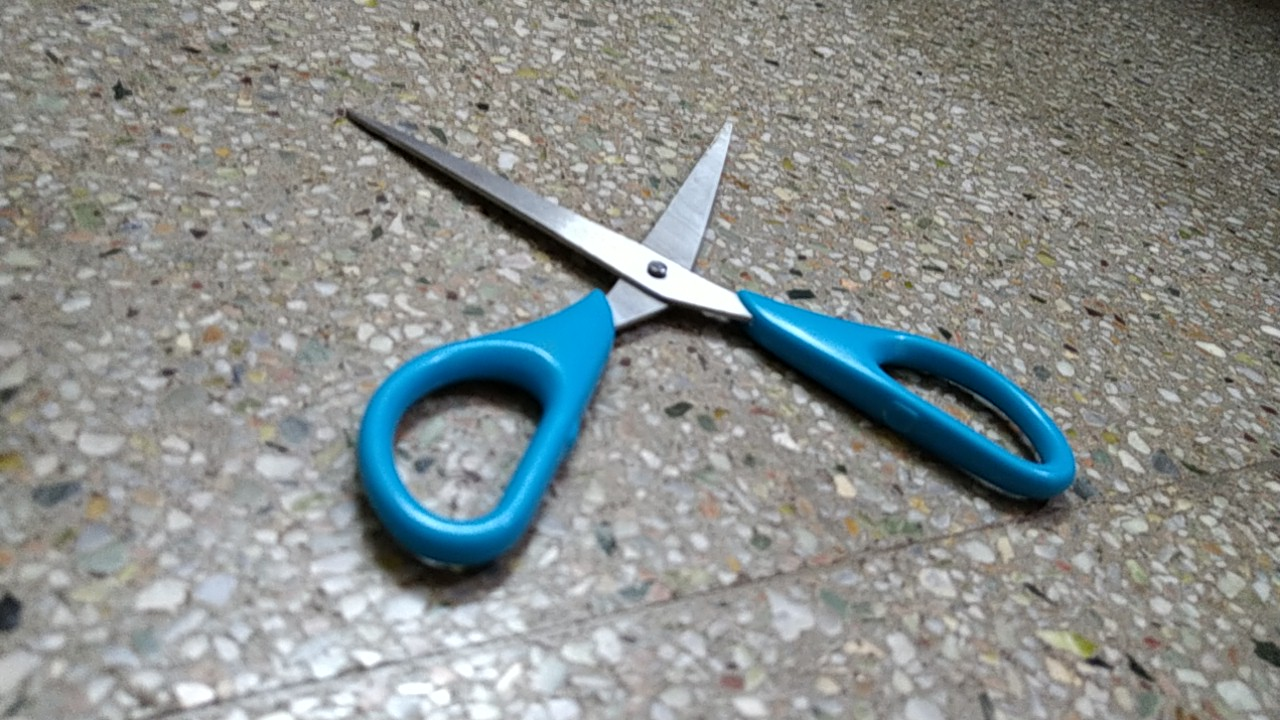scissor: (315, 95, 1105, 586)
